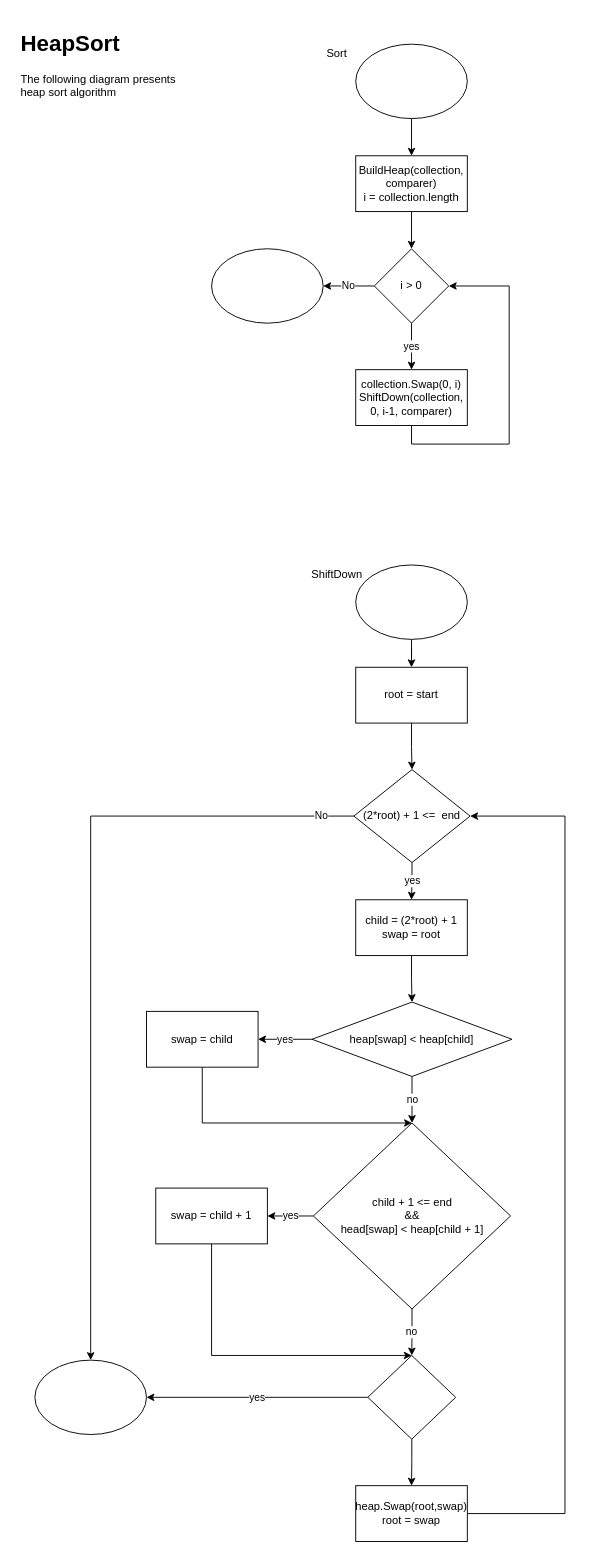
The diagram is 589 pixels wide and 1558 high, and some of its shapes have lost their labels. The box of each missing label's shape, as (x1, y1, x2, y2) in pixels:
return: (34, 1359, 146, 1435)
return;: (211, 248, 323, 323)
Start: (355, 564, 467, 639)
Start (T[] collection, start end, Func<T,T,int> comparer): (355, 43, 467, 119)
swap == root: (367, 1355, 456, 1439)
